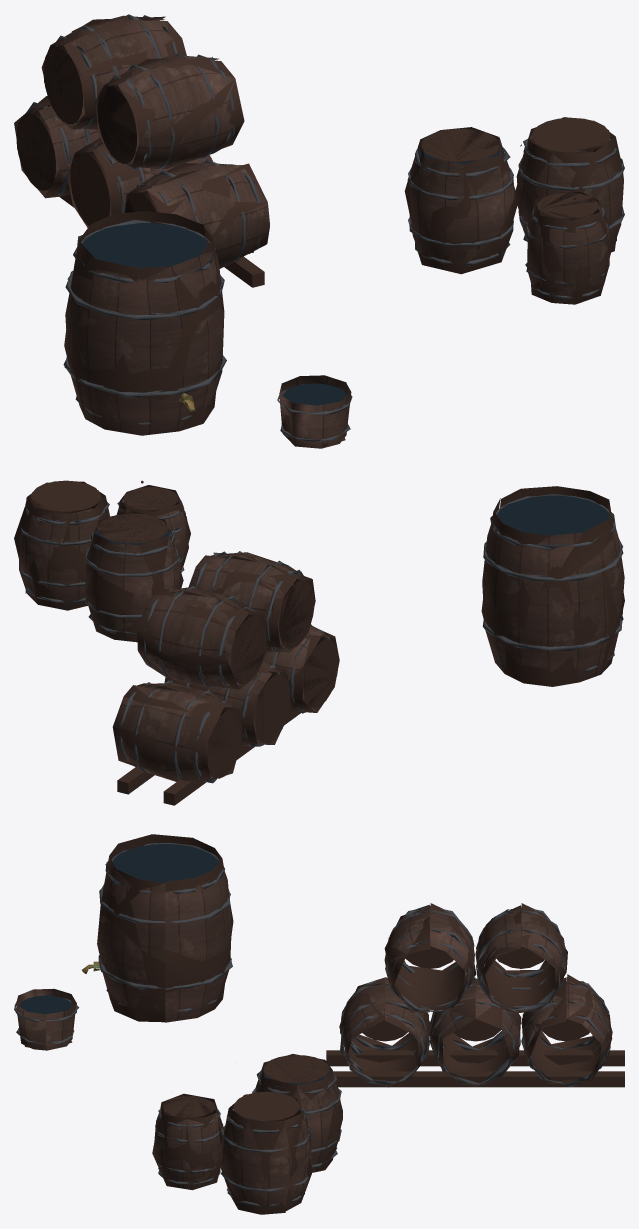
Rendered from prop_barrels.gltf.
3 renders of one model, top to bottom at view 1: azimuth 30°, elevation 25°; view 2: azimuth 150°, elevation 25°; view 3: azimuth 270°, elevation 25°, orthographic. The views are drawn at different scales.
Parts seen in each view (by area): view 1: Near, Far; view 2: Near, Far; view 3: Far, Near.
Boxes of the visible parts, x1,y1,x2,y2 form: Near: (16,14,624,448); Far: (14,16,623,447); Near: (19,480,624,783); Far: (14,480,624,805); Far: (14,834,624,1214); Near: (14,842,612,1210).
Bounding box in the file's own units: 4.92 × 1.46 × 5.12.
Materials: 6 (3 with a texture image).
